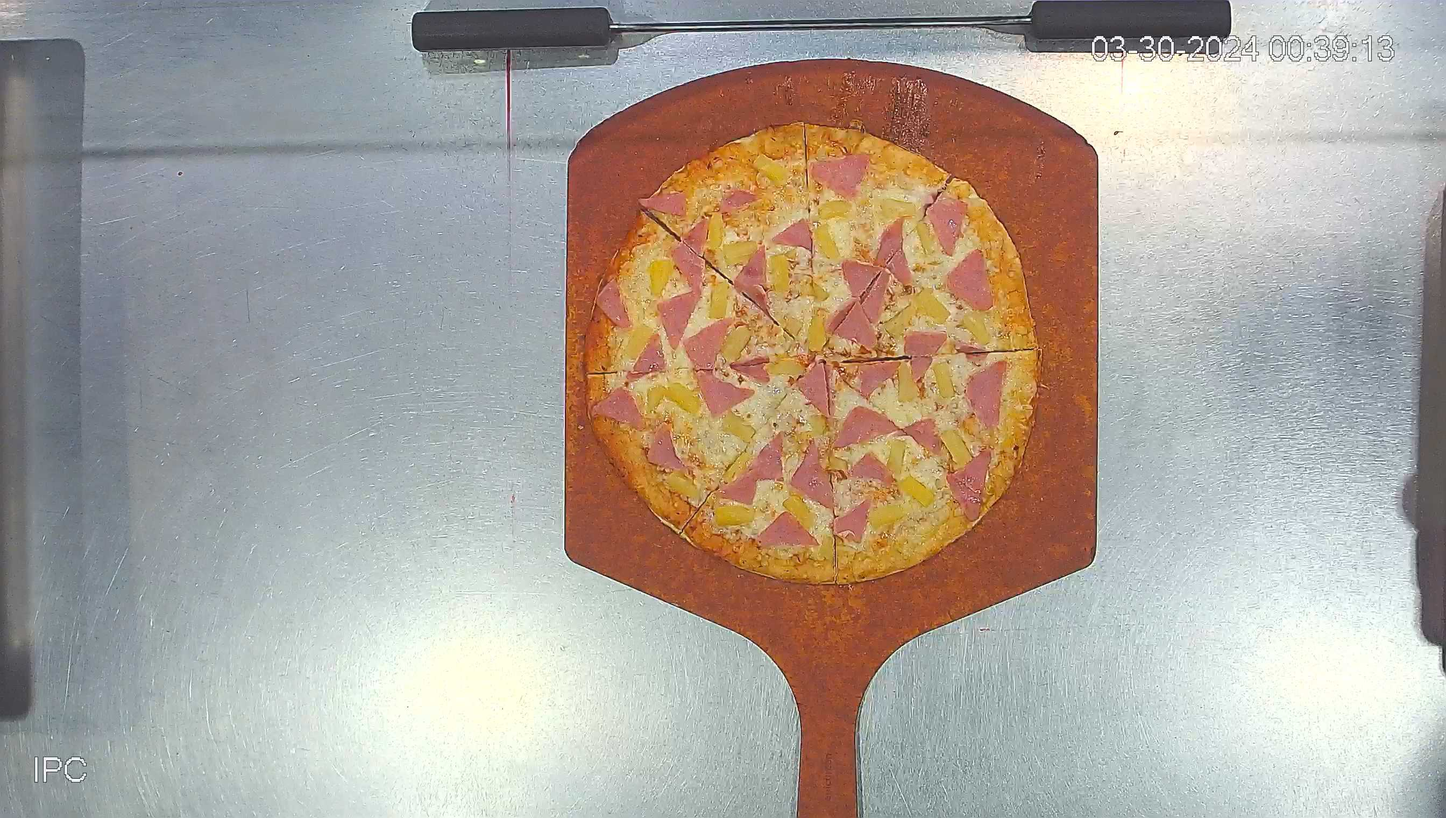manager_choice: (579, 115, 1045, 585)
